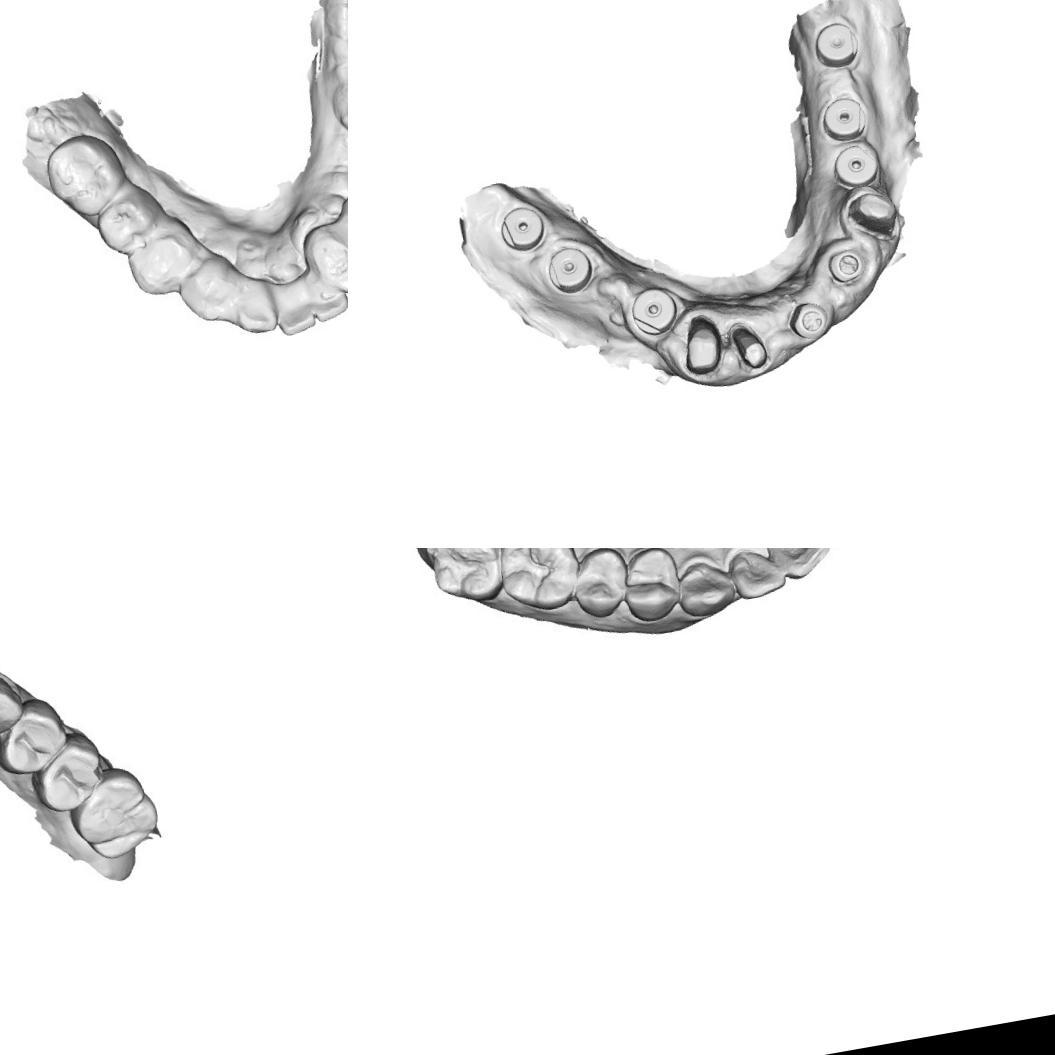canine: (669, 549, 744, 624), (176, 254, 241, 324), (0, 668, 26, 743)
crown: (838, 185, 904, 240), (676, 310, 727, 380), (726, 316, 772, 375)
implant: (540, 241, 598, 296), (494, 199, 550, 255), (626, 282, 682, 338), (810, 17, 864, 69), (816, 92, 870, 142), (786, 295, 834, 343), (829, 140, 878, 187), (824, 244, 868, 287)
incisor: (728, 548, 787, 604), (228, 280, 277, 338), (310, 223, 348, 295), (302, 266, 348, 323), (273, 283, 315, 336), (762, 548, 834, 577)
molar: (63, 762, 166, 866), (36, 128, 124, 226), (496, 548, 581, 613), (424, 548, 507, 606)
premolar: (28, 732, 114, 815), (0, 696, 70, 780), (92, 186, 164, 261), (566, 548, 636, 625), (127, 227, 198, 297), (623, 548, 683, 623)
